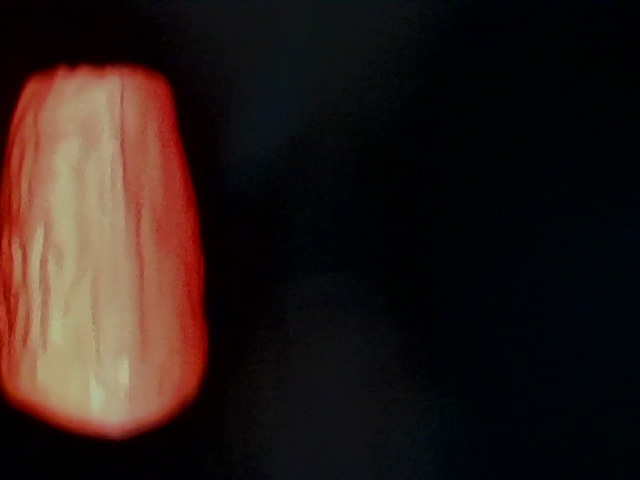CYLJ: (1, 60, 213, 429)
